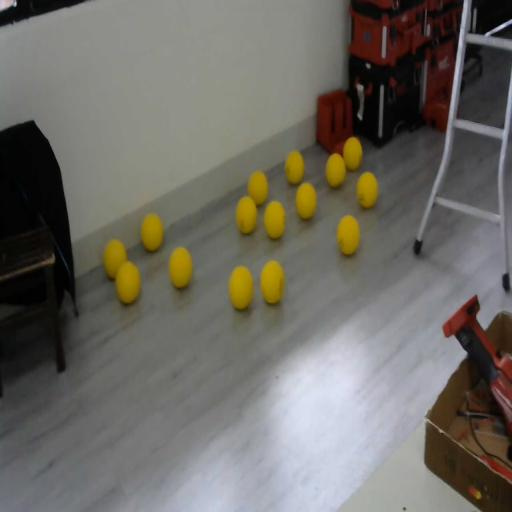FUEL: (228, 263, 254, 311), (114, 260, 141, 306), (168, 244, 194, 290), (260, 259, 285, 306), (336, 213, 360, 256), (140, 212, 164, 252), (263, 199, 286, 240), (235, 195, 258, 235), (247, 169, 269, 207), (295, 182, 317, 220), (356, 171, 378, 209), (342, 135, 363, 171), (326, 152, 346, 188), (284, 150, 304, 184)
